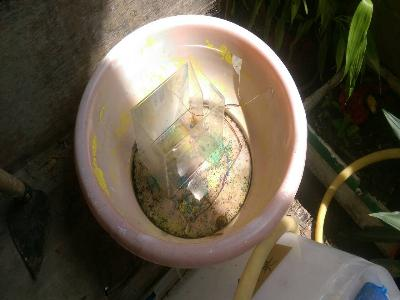box: (129, 59, 225, 199)
bucket: (71, 15, 308, 271)
